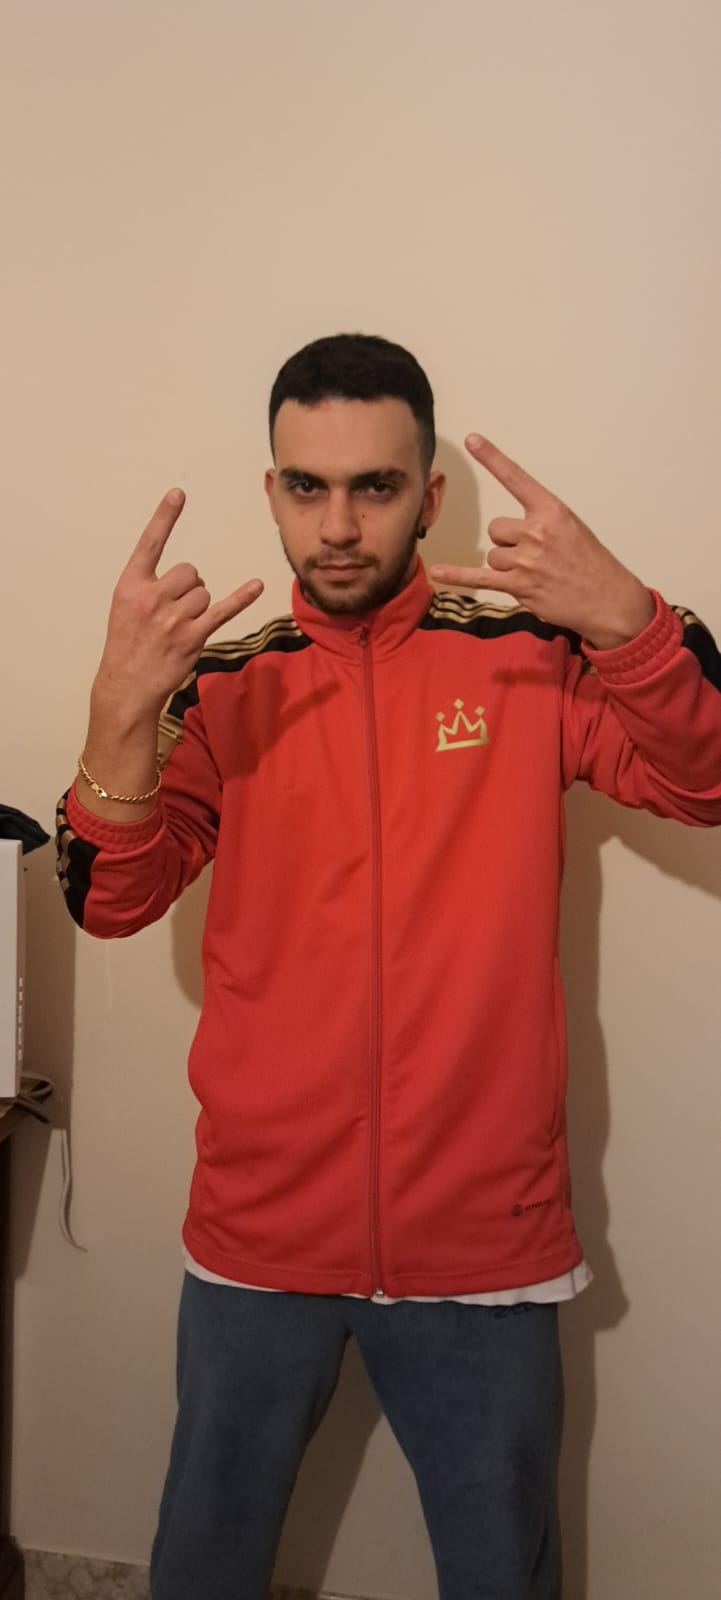rock: (75, 424, 622, 753)
